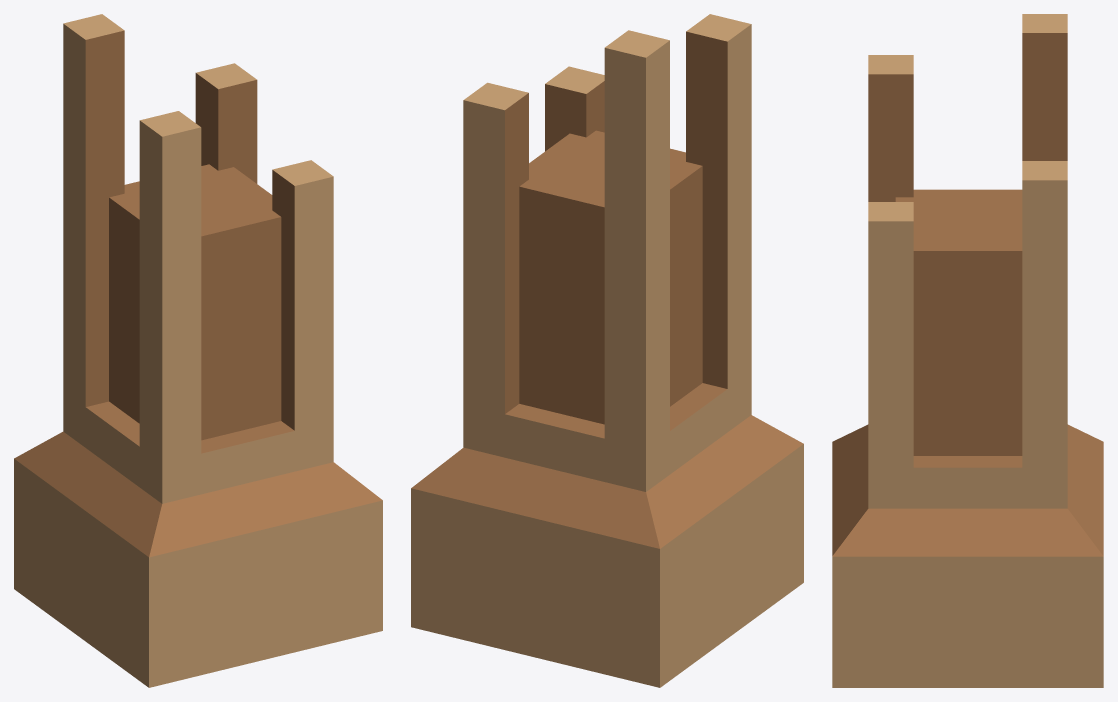
Rendered from ruin_column.glb.
The picture shows the model from 3 angles, left to right: view 1: azimuth 30°, elevation 25°; view 2: azimuth 150°, elevation 25°; view 3: azimuth 270°, elevation 25°; orthographic projection. The views are drawn at different scales.
Parts seen in each view (by area): view 1: statue_columnDamaged; view 2: statue_columnDamaged; view 3: statue_columnDamaged.
Boxes of the visible parts, x1,y1,x2,y2 form: statue_columnDamaged: (14, 14, 382, 687); statue_columnDamaged: (411, 14, 803, 687); statue_columnDamaged: (832, 14, 1103, 687).
Bounding box in the file's own units: 1.29 × 3 × 1.29.
